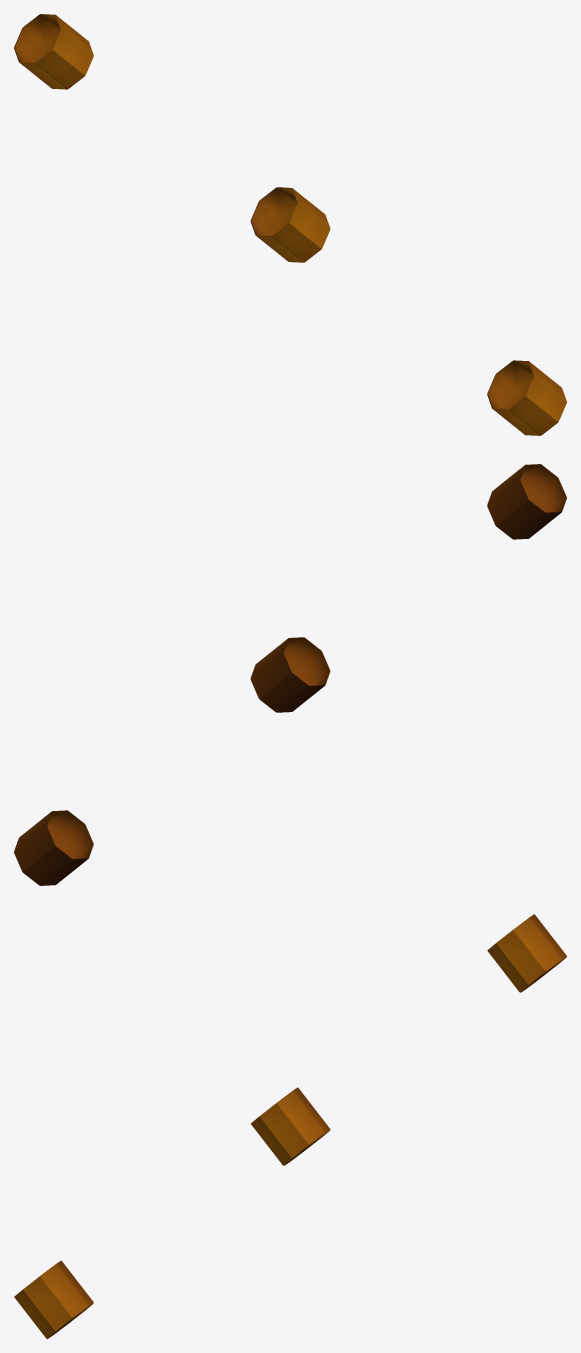
The model's file is Pipe.fbx.
3 views of the same model, one above another, from view 1: azimuth 30°, elevation 25°; view 2: azimuth 150°, elevation 25°; view 3: azimuth 330°, elevation 25° (orthographic).
Parts seen in each view (by area): view 1: Pipe (×3); view 2: Pipe (×3); view 3: Pipe (×3).
Part boxes in pixels (x1,y1,x2,y2): Pipe (×3): (14,14,566,435); Pipe (×3): (14,464,566,885); Pipe (×3): (14,914,566,1338).
Size of the model in its own units: 7.13 by 7.13 by 89.75.
Materials: 1 (1 with a texture image).
